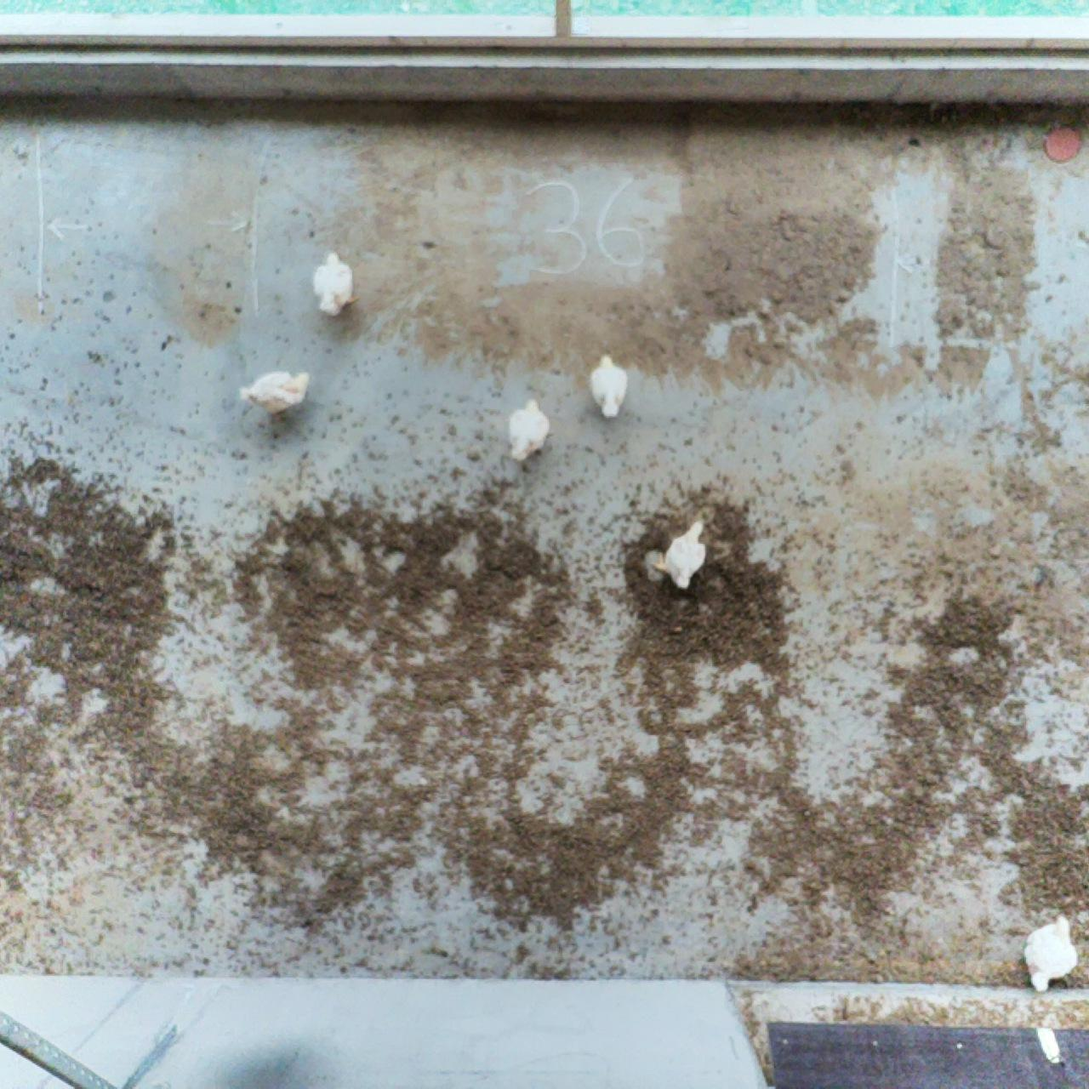chicken: (1018, 910, 1083, 999), (234, 363, 315, 423), (652, 514, 712, 594), (312, 246, 363, 321), (505, 393, 553, 466), (586, 347, 631, 422)
